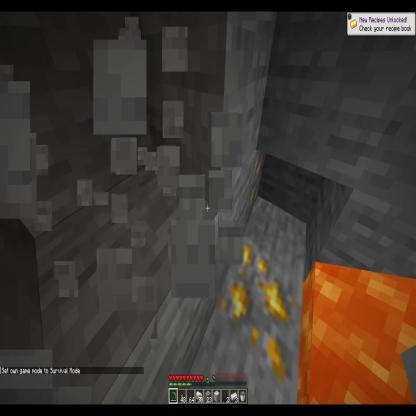gold ore: (215, 238, 306, 388)
iron ore: (249, 148, 268, 220)
